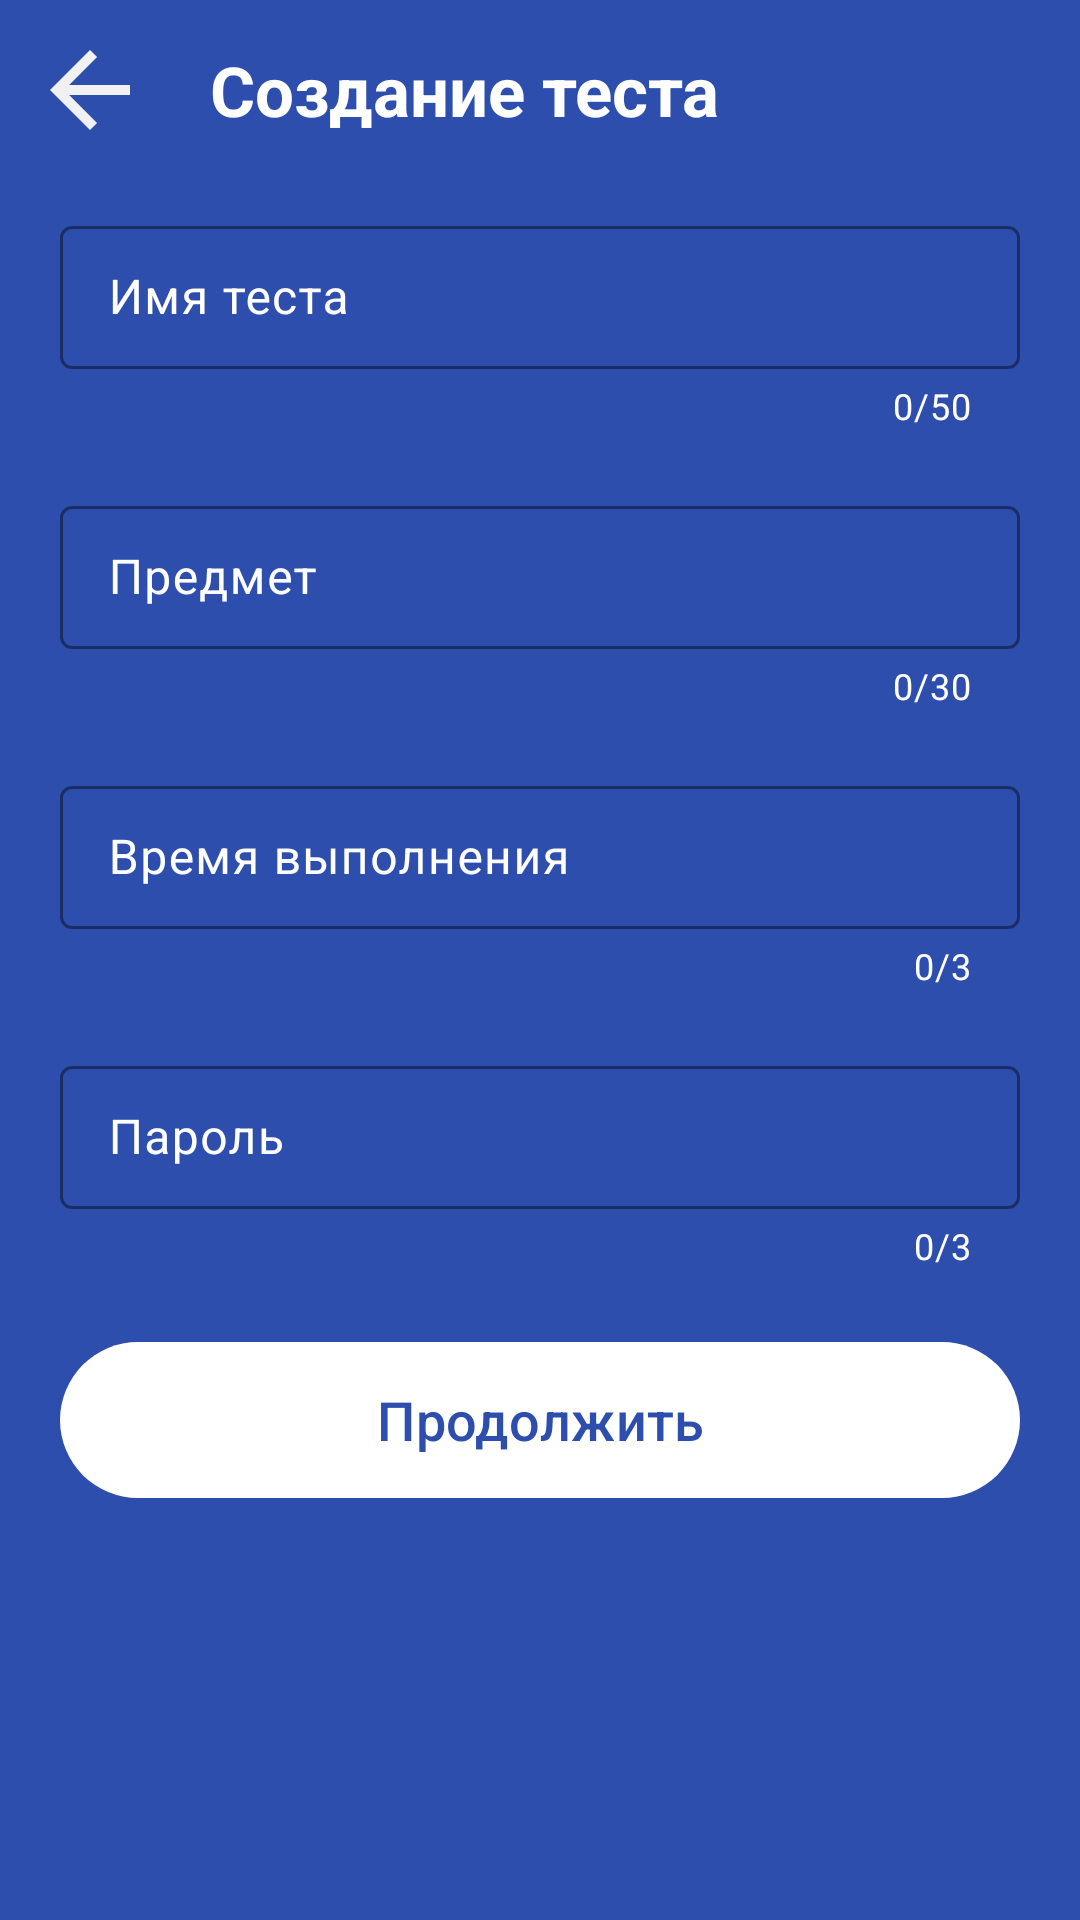

Icons on this 1080 x 1920 Android screen, each with the point to tap as [x,y]:
back arrow: [90,90]
